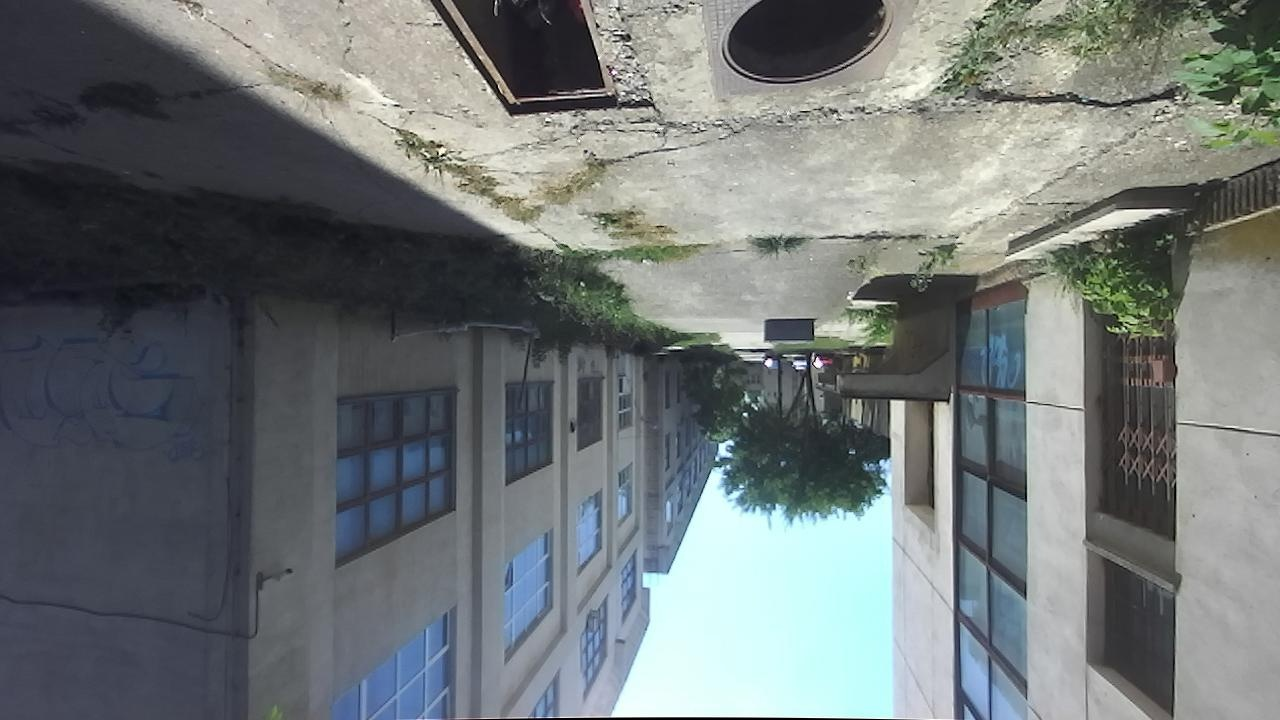drain: (427, 0, 621, 120), (710, 0, 897, 86)
